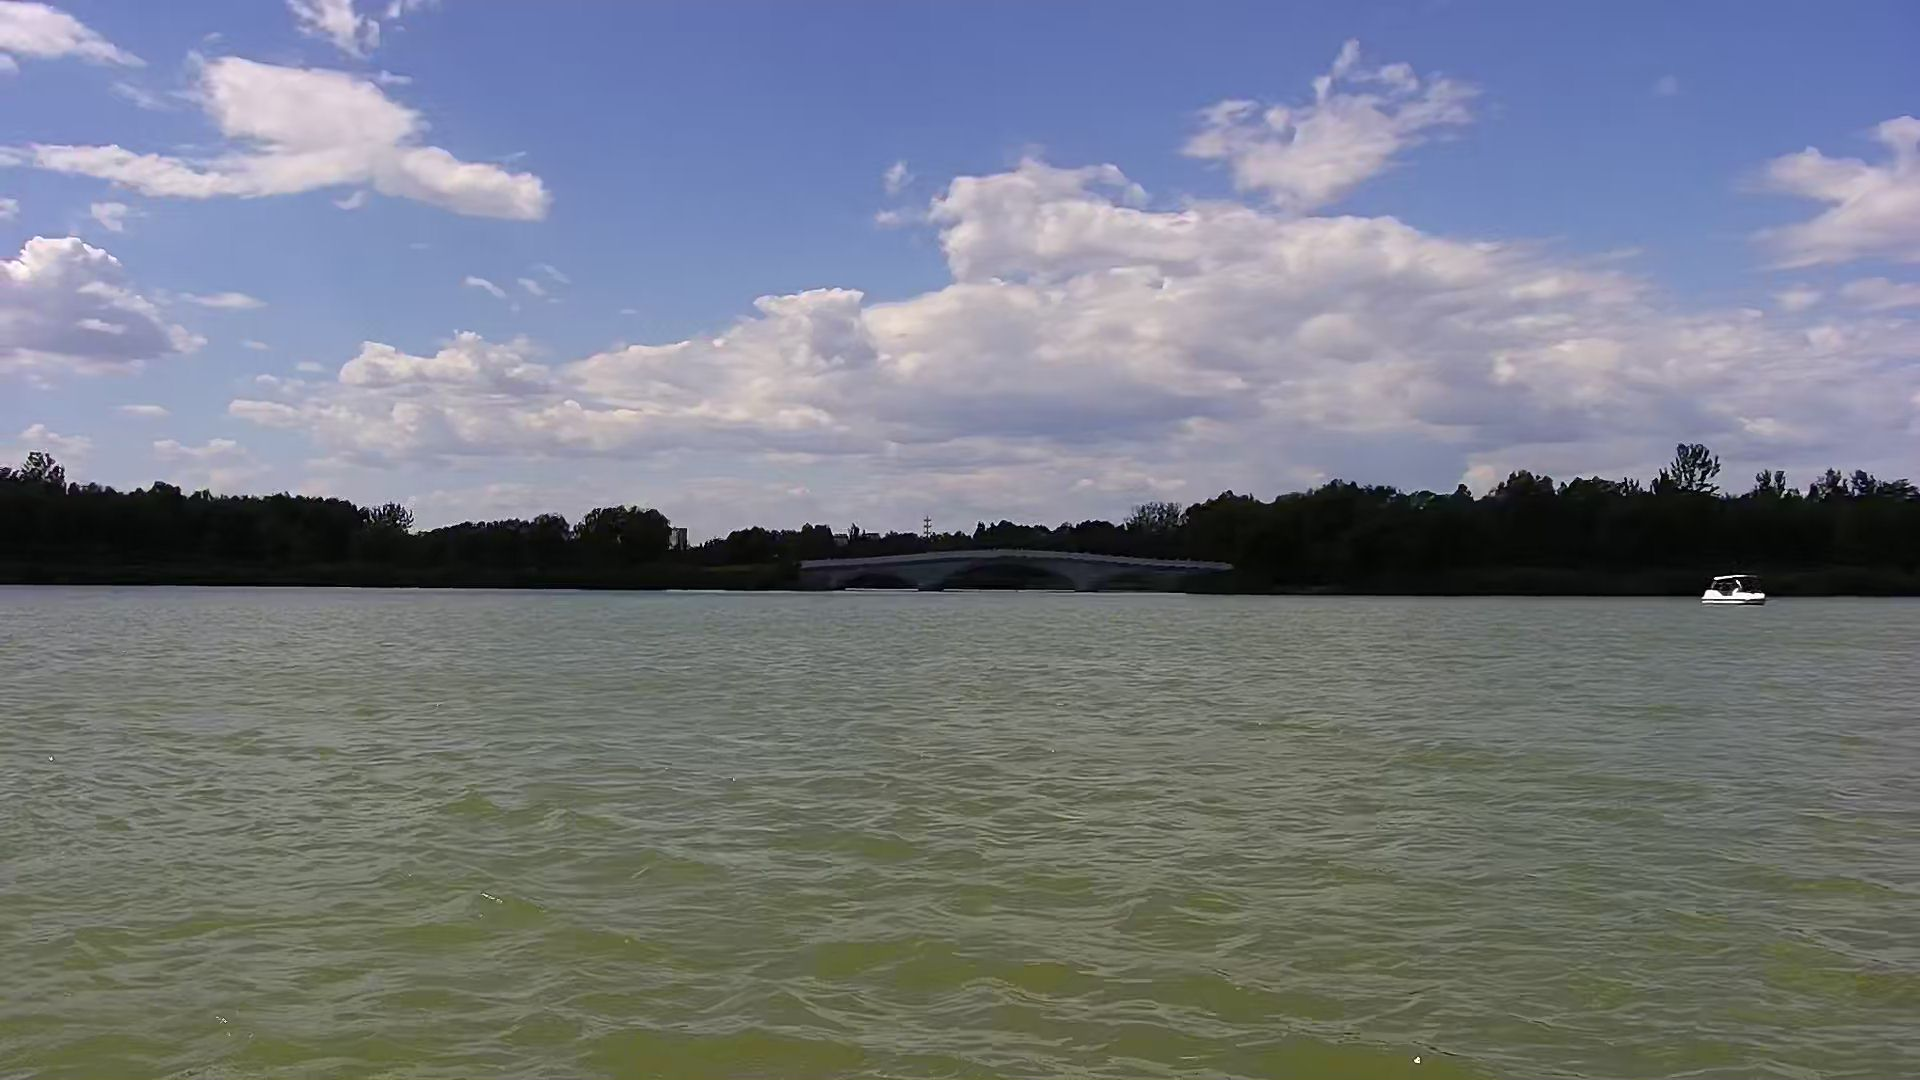boat: (1695, 568, 1774, 607)
bridge: (790, 545, 1251, 593)
